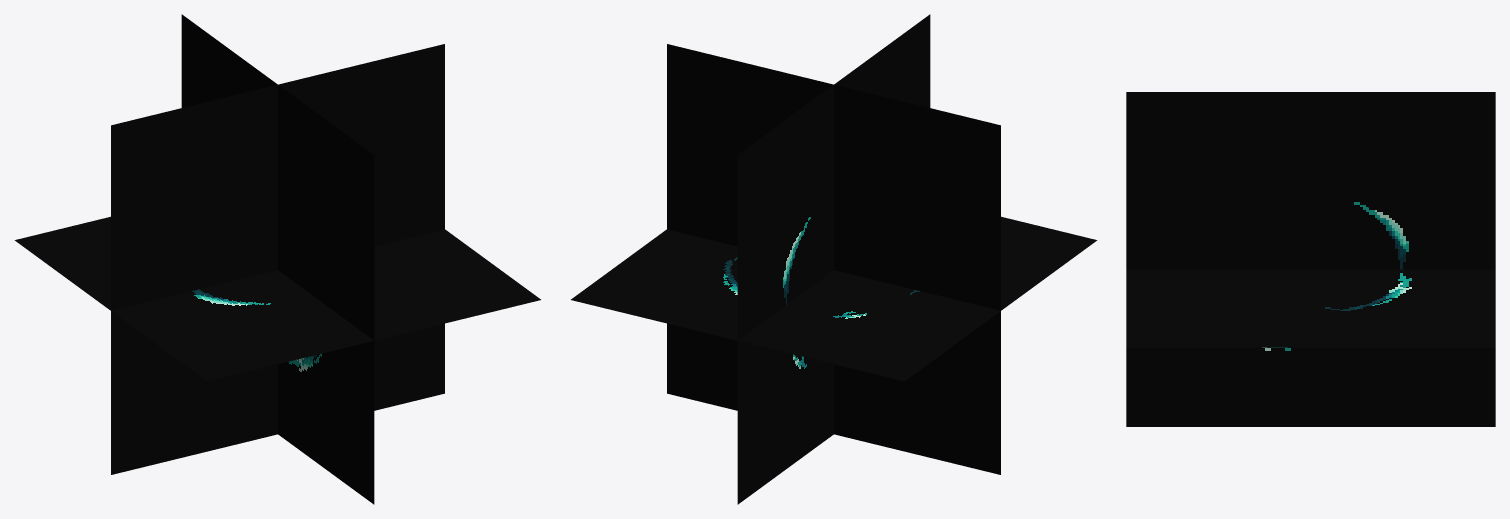
File: vfx_gale_vault_5.gltf
3 views of the same model, side by side, from view 1: azimuth 30°, elevation 25°; view 2: azimuth 150°, elevation 25°; view 3: azimuth 270°, elevation 25° (orthographic). The views are drawn at different scales.
Visible parts, largest first — view 1: cube (×3); view 2: cube (×3); view 3: cube (×2).
Part boxes in pixels (x1,y1,x2,y2): cube (×3): [14, 14, 540, 504]; cube (×3): [571, 14, 1097, 504]; cube (×2): [1126, 92, 1495, 426].
Size of the model in its own units: 2.06 by 2.06 by 2.06.
Materials: 1 (1 with a texture image).
